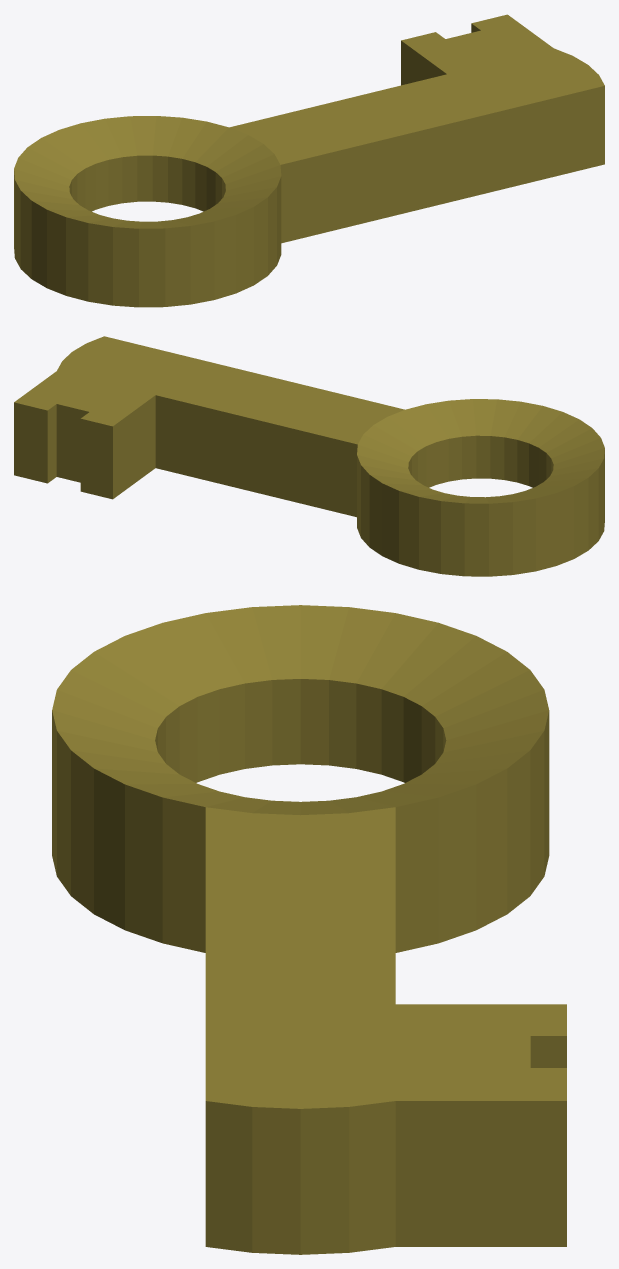
Rendered from Anahtar.fbx.
3 views of the same model, one above another, from view 1: azimuth 30°, elevation 25°; view 2: azimuth 150°, elevation 25°; view 3: azimuth 270°, elevation 25° (orthographic). The views are drawn at different scales.
Visible parts, largest first — view 1: Circle; view 2: Circle; view 3: Circle.
Part boxes in pixels (x1,y1,x2,y2): Circle: [14, 14, 604, 307]; Circle: [14, 336, 604, 576]; Circle: [52, 605, 566, 1254].
Size of the model in its own units: 102 by 13.84 by 44.25.
